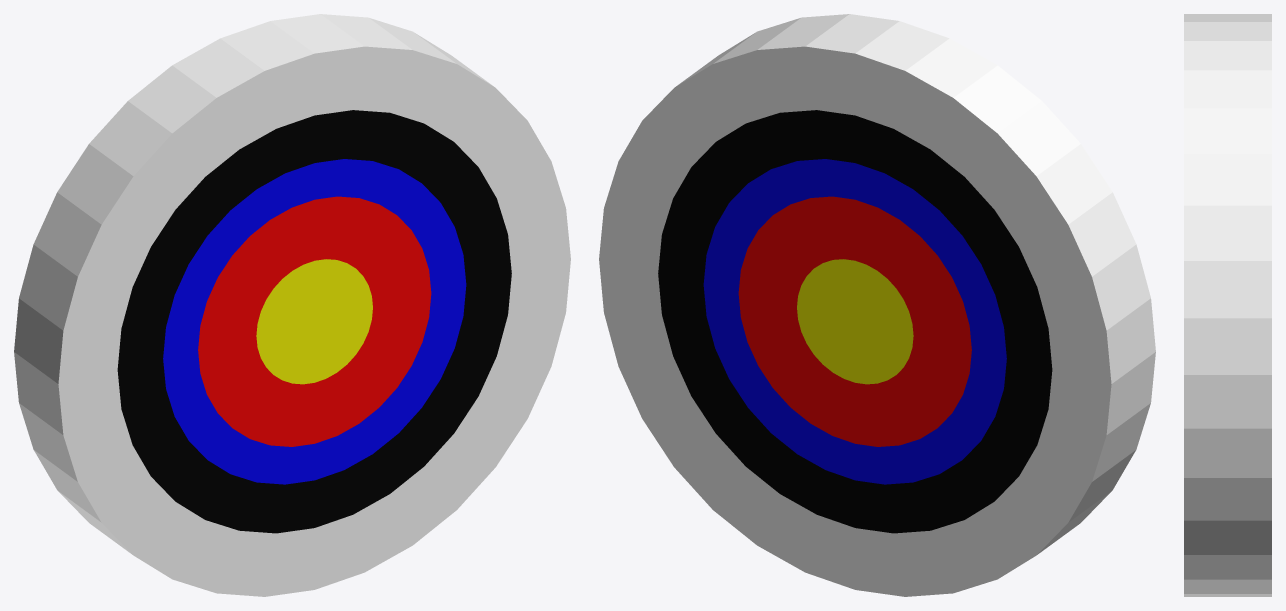
File: target.fbx
3 renders of one model, left to right at view 1: azimuth 30°, elevation 25°; view 2: azimuth 150°, elevation 25°; view 3: azimuth 270°, elevation 25°, orthographic.
Parts seen in each view (by area): view 1: Cylinder; view 2: Cylinder; view 3: Cylinder.
Boxes of the visible parts, left/top/right/bottom form: Cylinder: left=14, top=14, right=570, bottom=596; Cylinder: left=599, top=14, right=1155, bottom=596; Cylinder: left=1184, top=14, right=1271, bottom=596.
Bounding box in the file's own units: 659 × 659 × 99.07.
